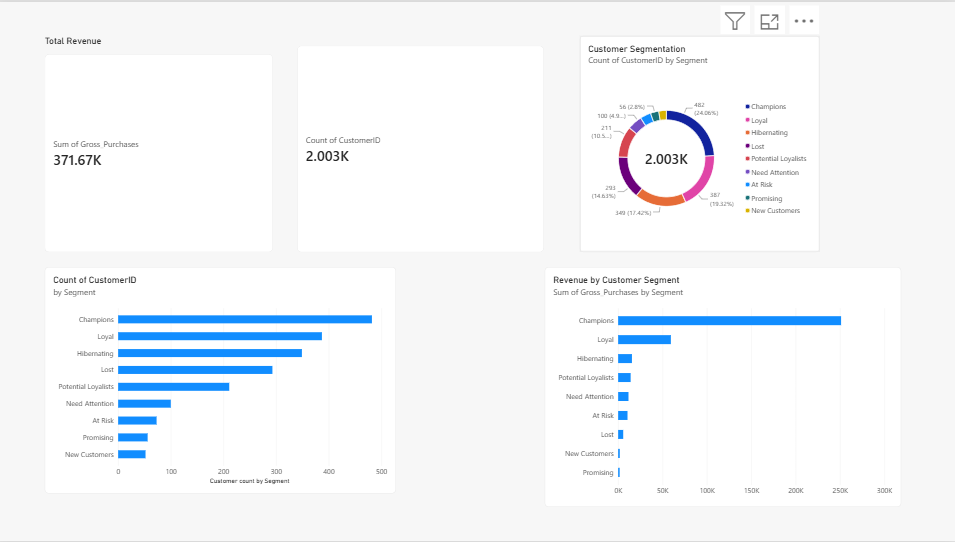

What the dashboard file says about the page in this screenshot:
{"tool":"powerbi","page":{"name":"Page 1","canvas":[1920,1080],"ordinal":0},"visuals":[{"type":"cardVisual","fields":{"Data":["CountNonNull(rfm_segments.CustomerID)"]},"box":[603.3,86.7,493.3,413.3],"z":0},{"type":"cardVisual","title":"Total Revenue","fields":{"Data":["Sum(rfm_segments.Gross_Purchases)"]},"box":[96.7,66.7,456.7,433.3],"z":1},{"type":"donutChart","title":"Customer Segmentation","fields":{"Category":["rfm_segments.Segment"],"Y":["Count(rfm_segments.CustomerID)"]},"box":[1167.5,67.5,480,432.5],"z":2},{"type":"clusteredBarChart","fields":{"Category":["rfm_segments.Segment"],"Y":["Count(rfm_segments.CustomerID)"]},"box":[97.5,530,702.5,452.5],"z":3},{"type":"clusteredBarChart","title":"Revenue by Customer Segment","fields":{"Category":["rfm_segments.Segment"],"Y":["Sum(rfm_segments.Gross_Purchases)"]},"box":[1097.5,530,712.5,480],"z":4}]}

Visuals, with their boxes in screenshot pixels (x1, y1, x2, y2), scaled from the page's 1920x1080 canvas onto the 955x542 screenshot:
cardVisual - CountNonNull(rfm_segments.CustomerID): <region>300, 44, 545, 251</region>
"Total Revenue" cardVisual: <region>48, 33, 275, 251</region>
"Customer Segmentation" donutChart: <region>581, 34, 819, 251</region>
clusteredBarChart - rfm_segments.Segment x Count(rfm_segments.CustomerID): <region>48, 266, 398, 493</region>
"Revenue by Customer Segment" clusteredBarChart: <region>546, 266, 900, 507</region>
